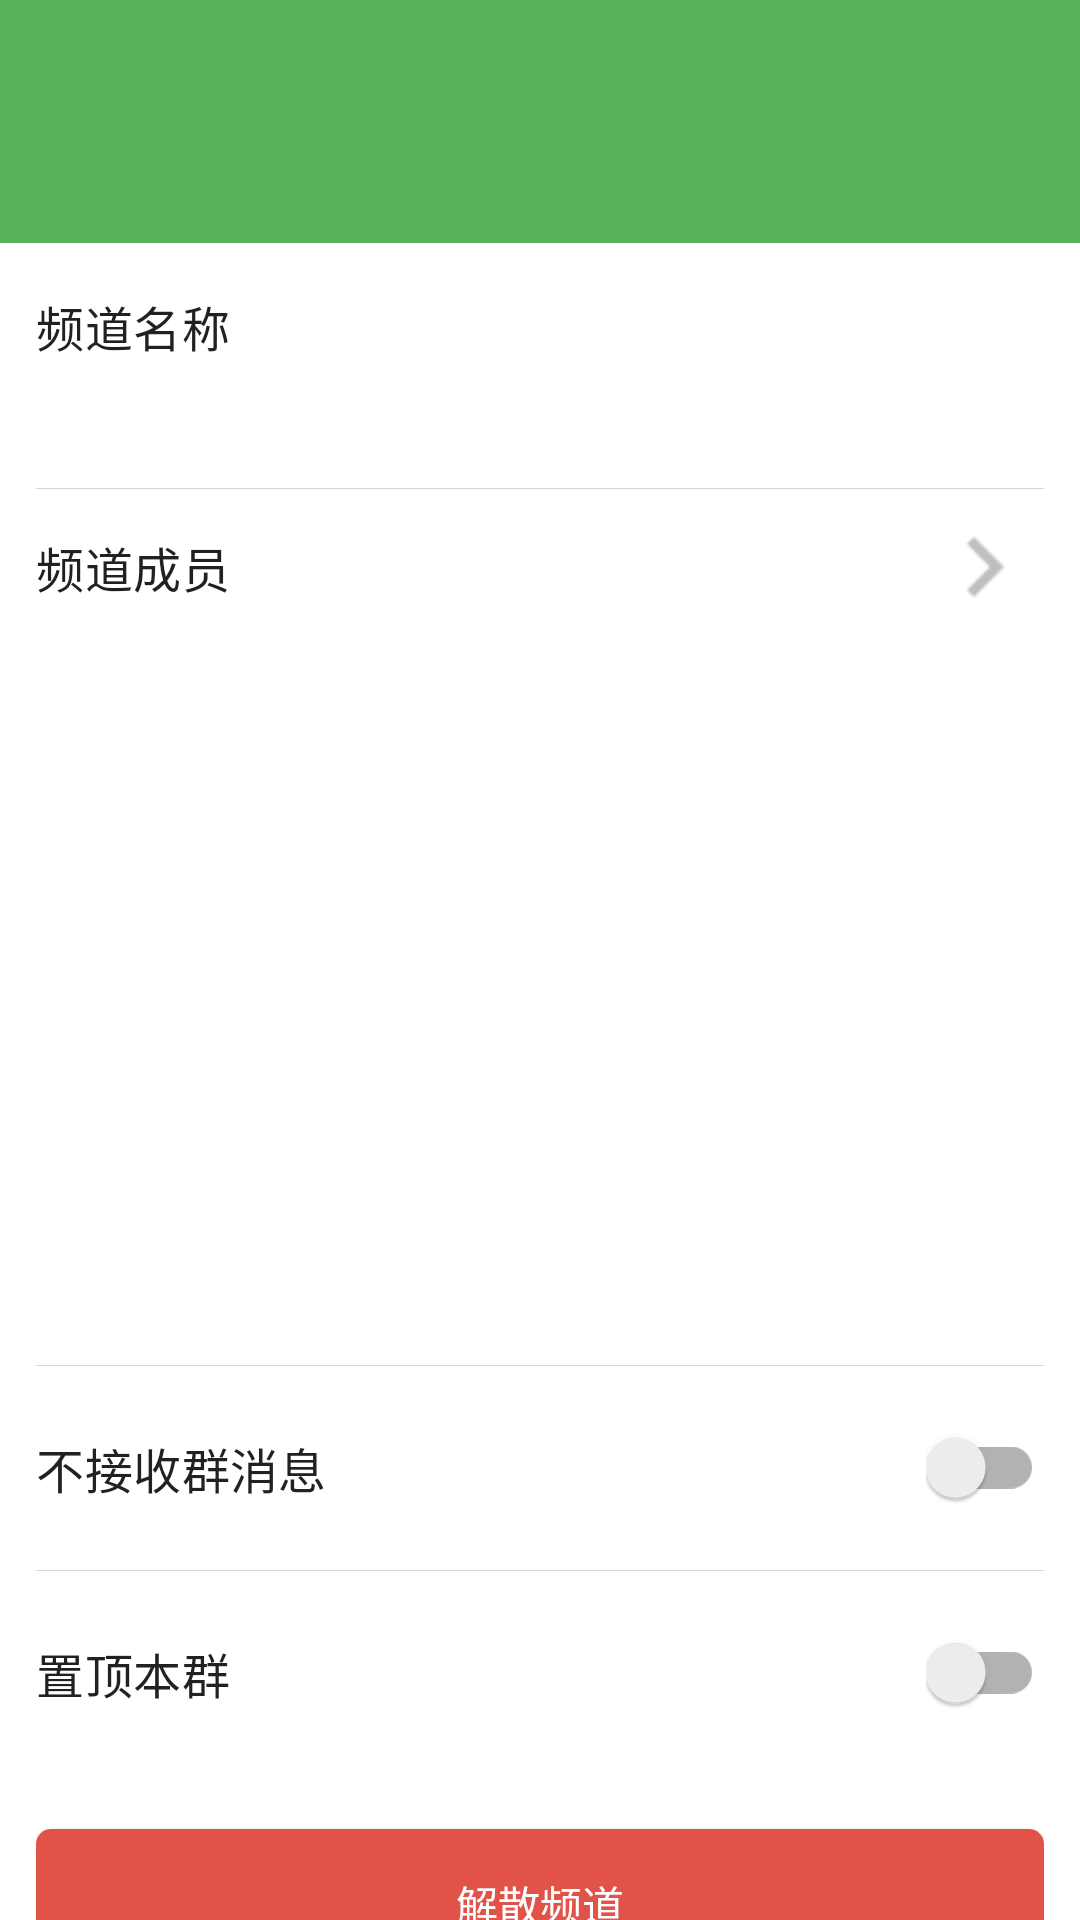

Where icons sit on this 1080x1920 app screen, as (x1, y1, x2, y2):
right: (967, 538, 1003, 596)
